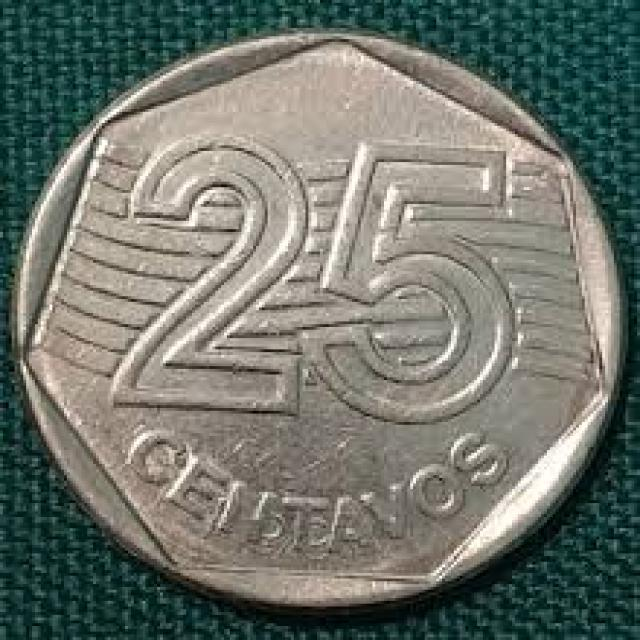25 cent: (17, 26, 614, 598)
